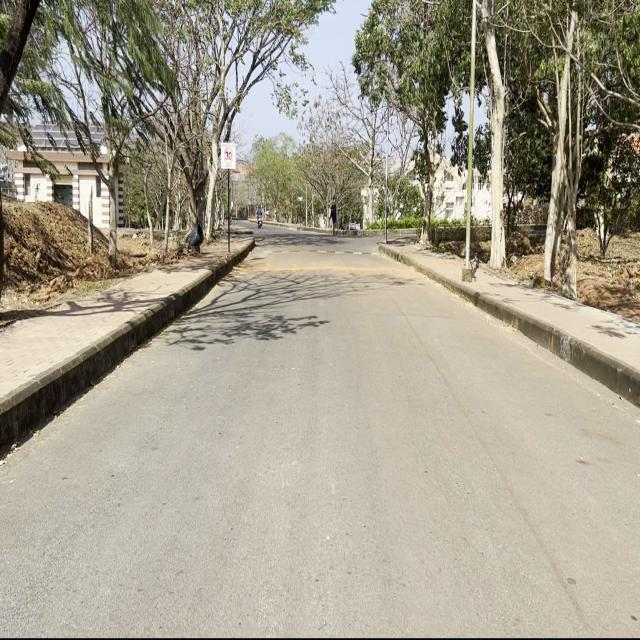Road: (3, 228, 638, 633)
